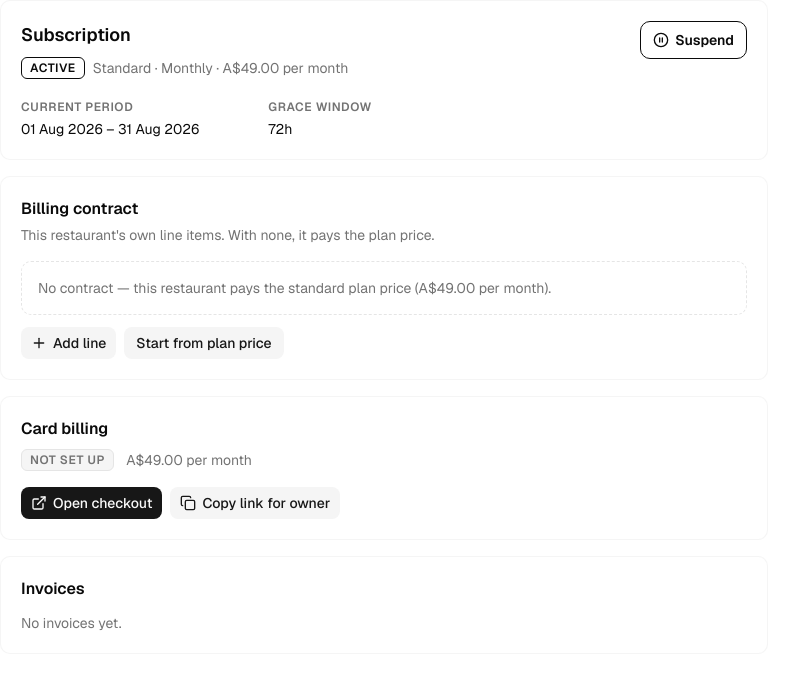
Test: SubscriptionTab › card billing: price_not_set points to the Plans page
Click the button with test id "card-billing-copy": point(255, 503) left=170, top=487, right=340, bottom=519
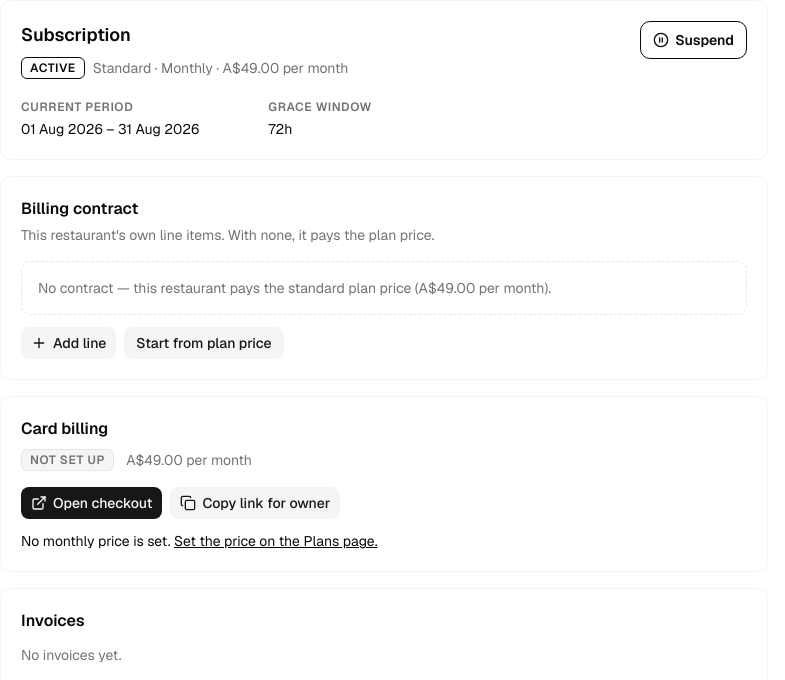
Check: the message with test id "card-billing-error" shows "Plans page", box left=174, top=532, right=378, bottom=550
